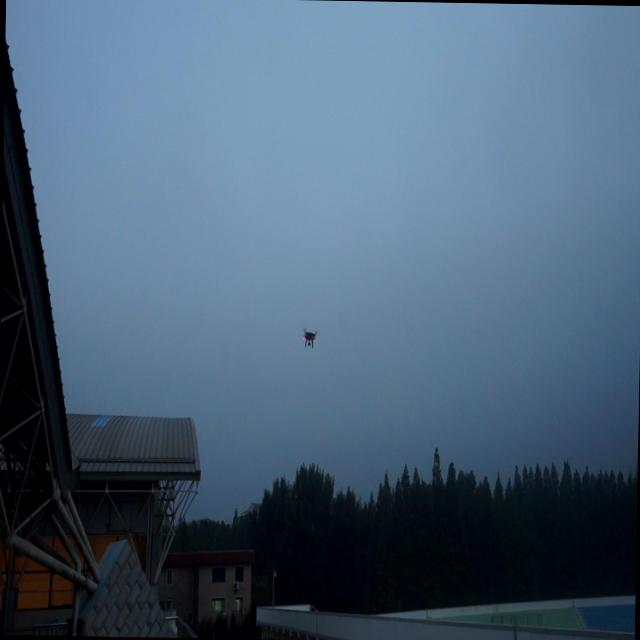drone: (302, 323, 318, 351)
